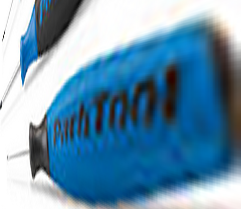screwdriver: (8, 78, 241, 195)
